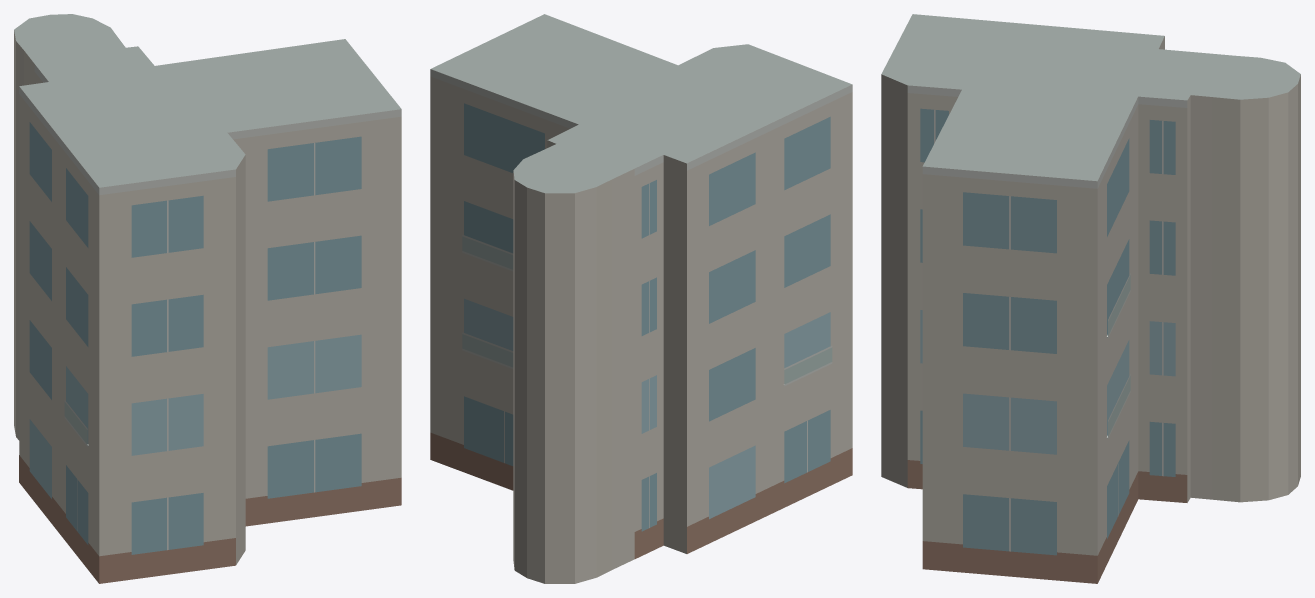
Rendered from survey-upis-32472962.glb.
The picture shows the model from 3 angles, left to right: view 1: azimuth 30°, elevation 25°; view 2: azimuth 150°, elevation 25°; view 3: azimuth 270°, elevation 25°; orthographic projection. The views are drawn at different scales.
Visible parts, largest first — view 1: survey-upis-32472962.tmp; view 2: survey-upis-32472962.tmp; view 3: survey-upis-32472962.tmp.
Boxes of the visible parts, x1,y1,x2,y2 form: survey-upis-32472962.tmp: [14, 14, 401, 583]; survey-upis-32472962.tmp: [430, 14, 852, 583]; survey-upis-32472962.tmp: [881, 14, 1300, 583].
Bounding box in the file's own units: 11.5 × 12.9 × 12.19.
